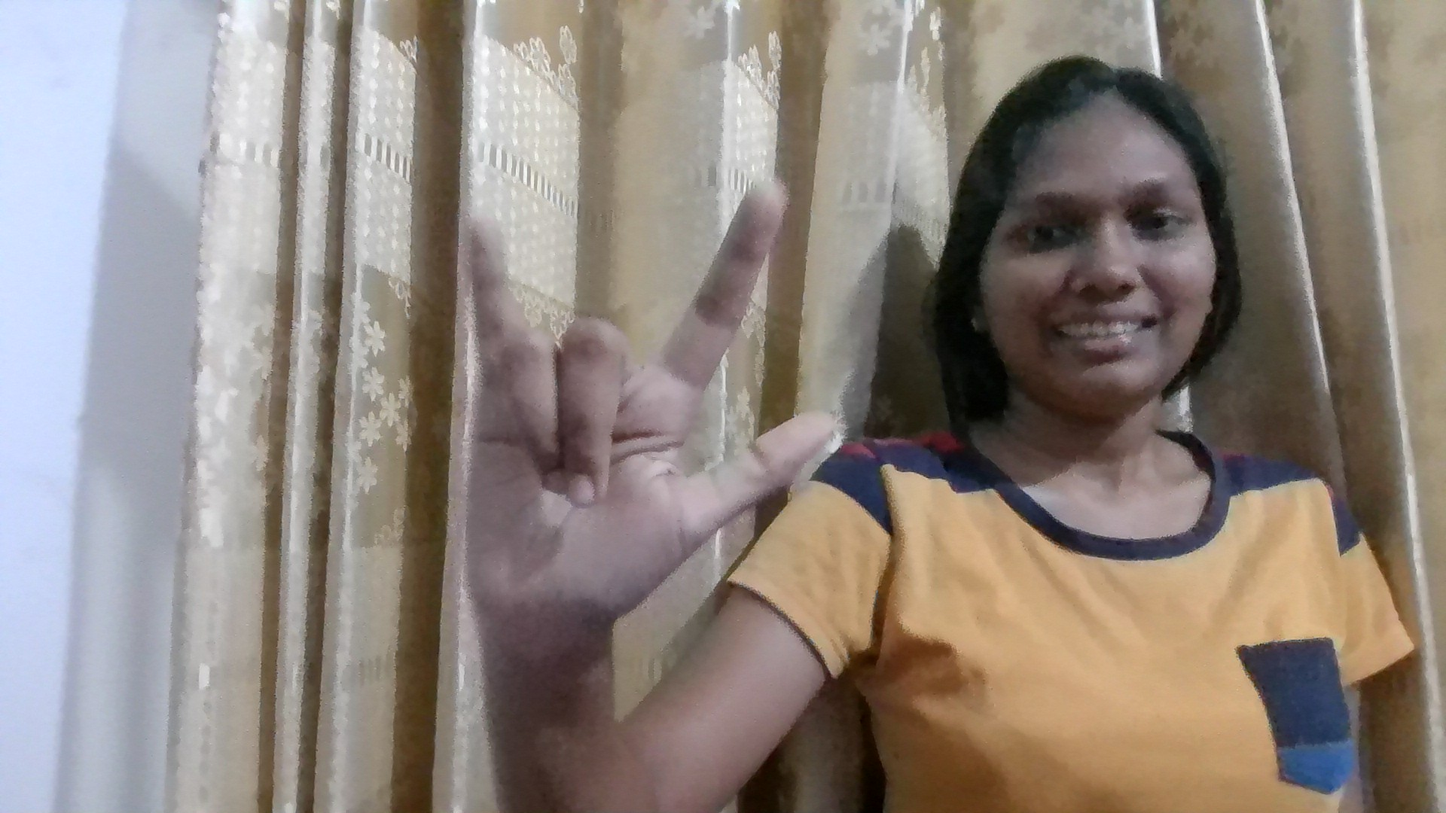I Love You: (414, 146, 901, 649)
